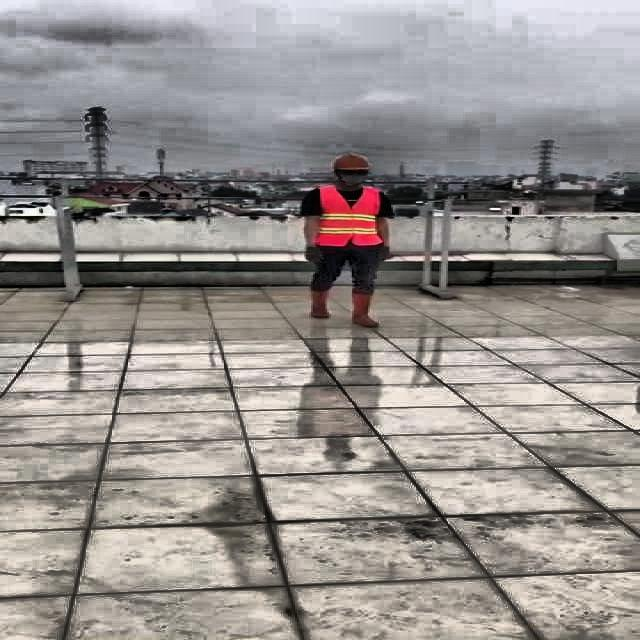safety_helmet: (330, 153, 372, 172)
safety_jacket: (318, 187, 384, 247)
